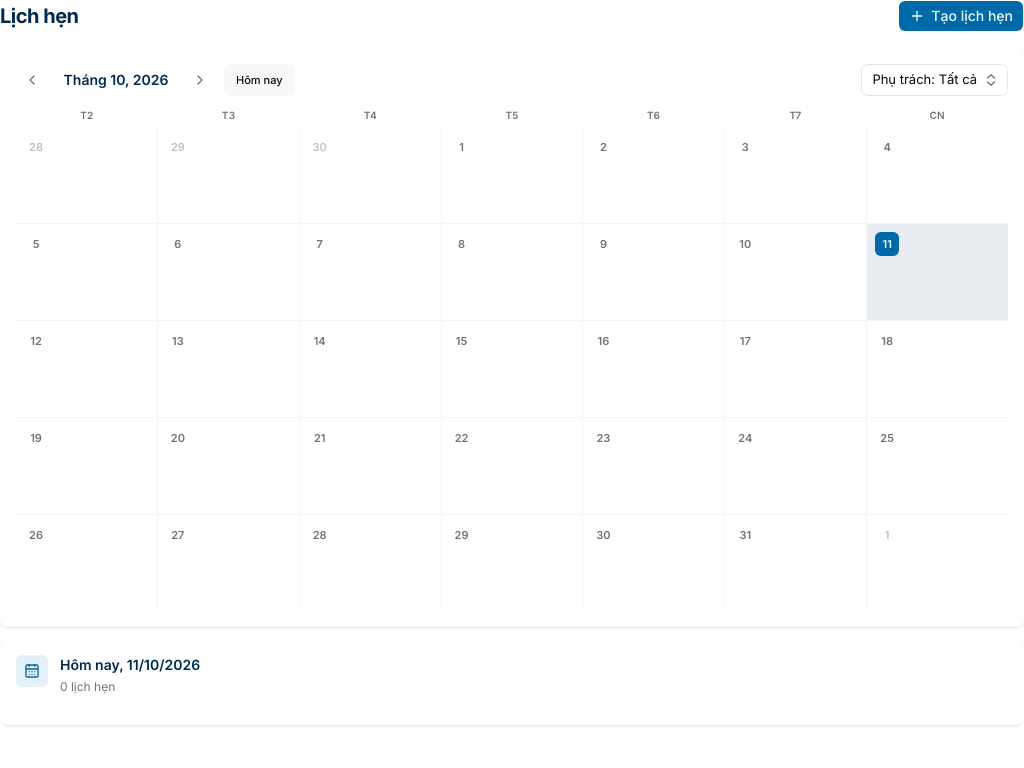
Test: AppointmentCalendar › 409 trùng giờ → thông báo trên form, sheet vẫn mở
Click the button "Tạo lịch hẹn": (961, 16) [898, 0, 1023, 32]
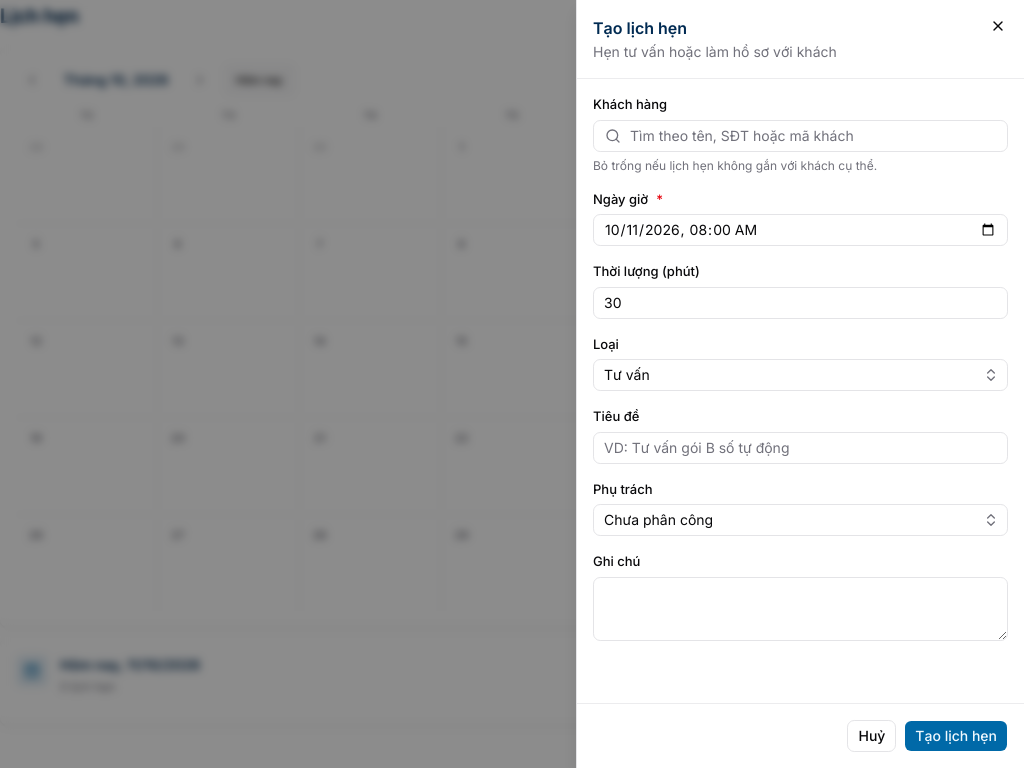
Replace the text in the field labelled "Ngày giờ *" with "2026-10-21T08:30": (800, 230) [593, 214, 1008, 246]
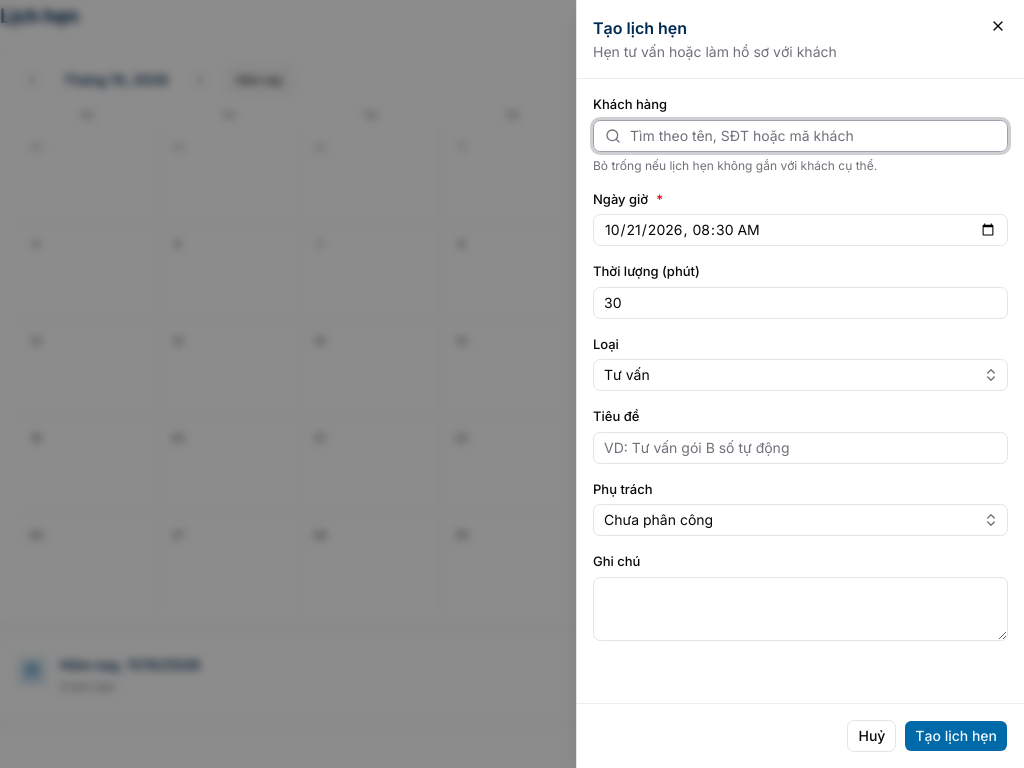
Click the button "Tạo lịch hẹn": (956, 736) [904, 720, 1008, 752]
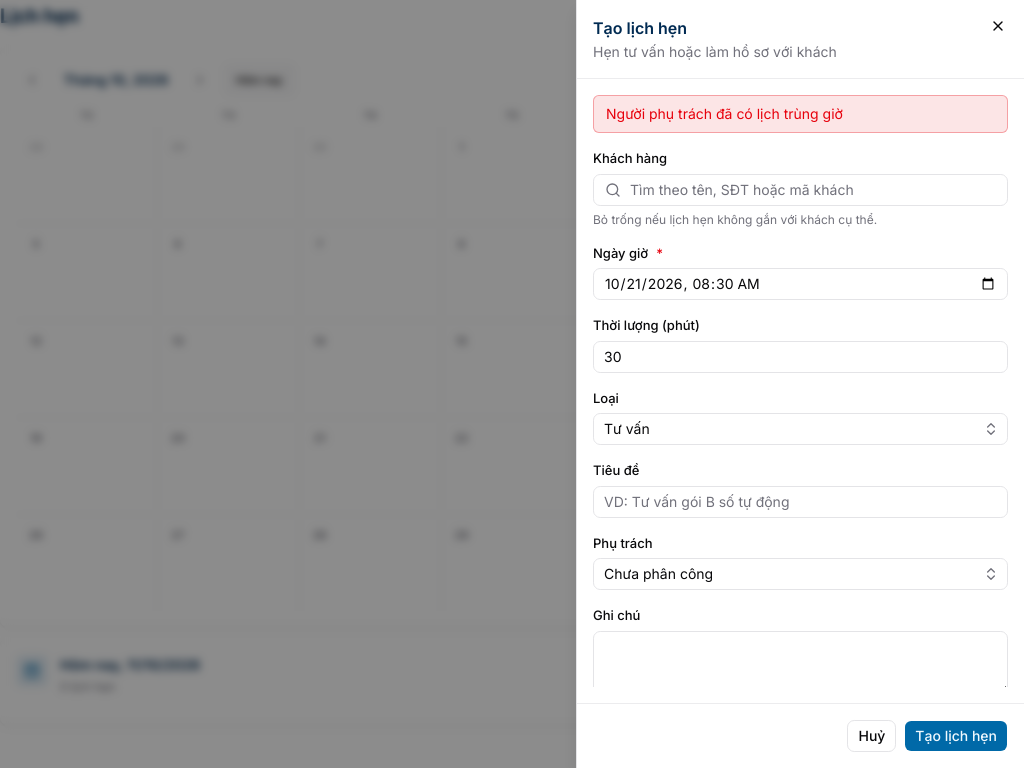
Now the dialog is shown, box [576, 0, 1023, 767]
Now the message reads "Người phụ trách đã có lịch trùng giờ", box [606, 105, 843, 122]
